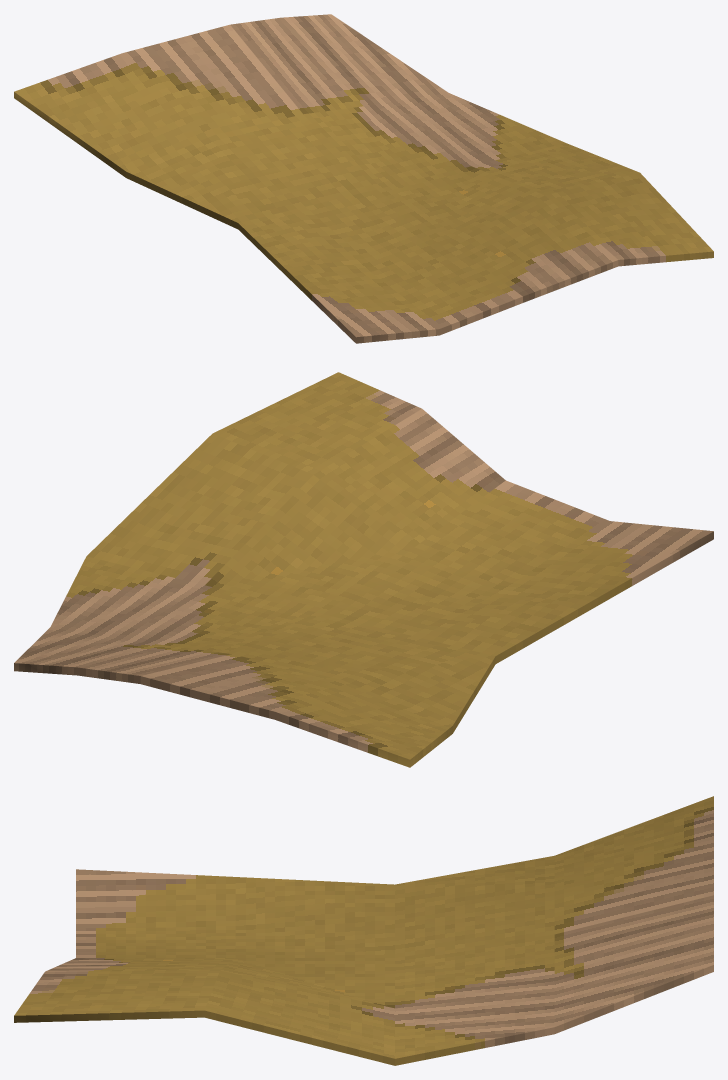
The model's file is Cardboard.fbx.
The picture shows the model from 3 angles, top to bottom: view 1: azimuth 30°, elevation 25°; view 2: azimuth 150°, elevation 25°; view 3: azimuth 270°, elevation 25°; orthographic projection. The views are drawn at different scales.
Visible parts, largest first — view 1: Cardboard; view 2: Cardboard; view 3: Cardboard.
Part boxes in pixels (<box>): Cardboard: <box>14,14,713,343</box>; Cardboard: <box>14,372,713,767</box>; Cardboard: <box>14,796,713,1065</box>.
Size of the model in its own units: 0.5553 by 0.0997 by 0.7616.
